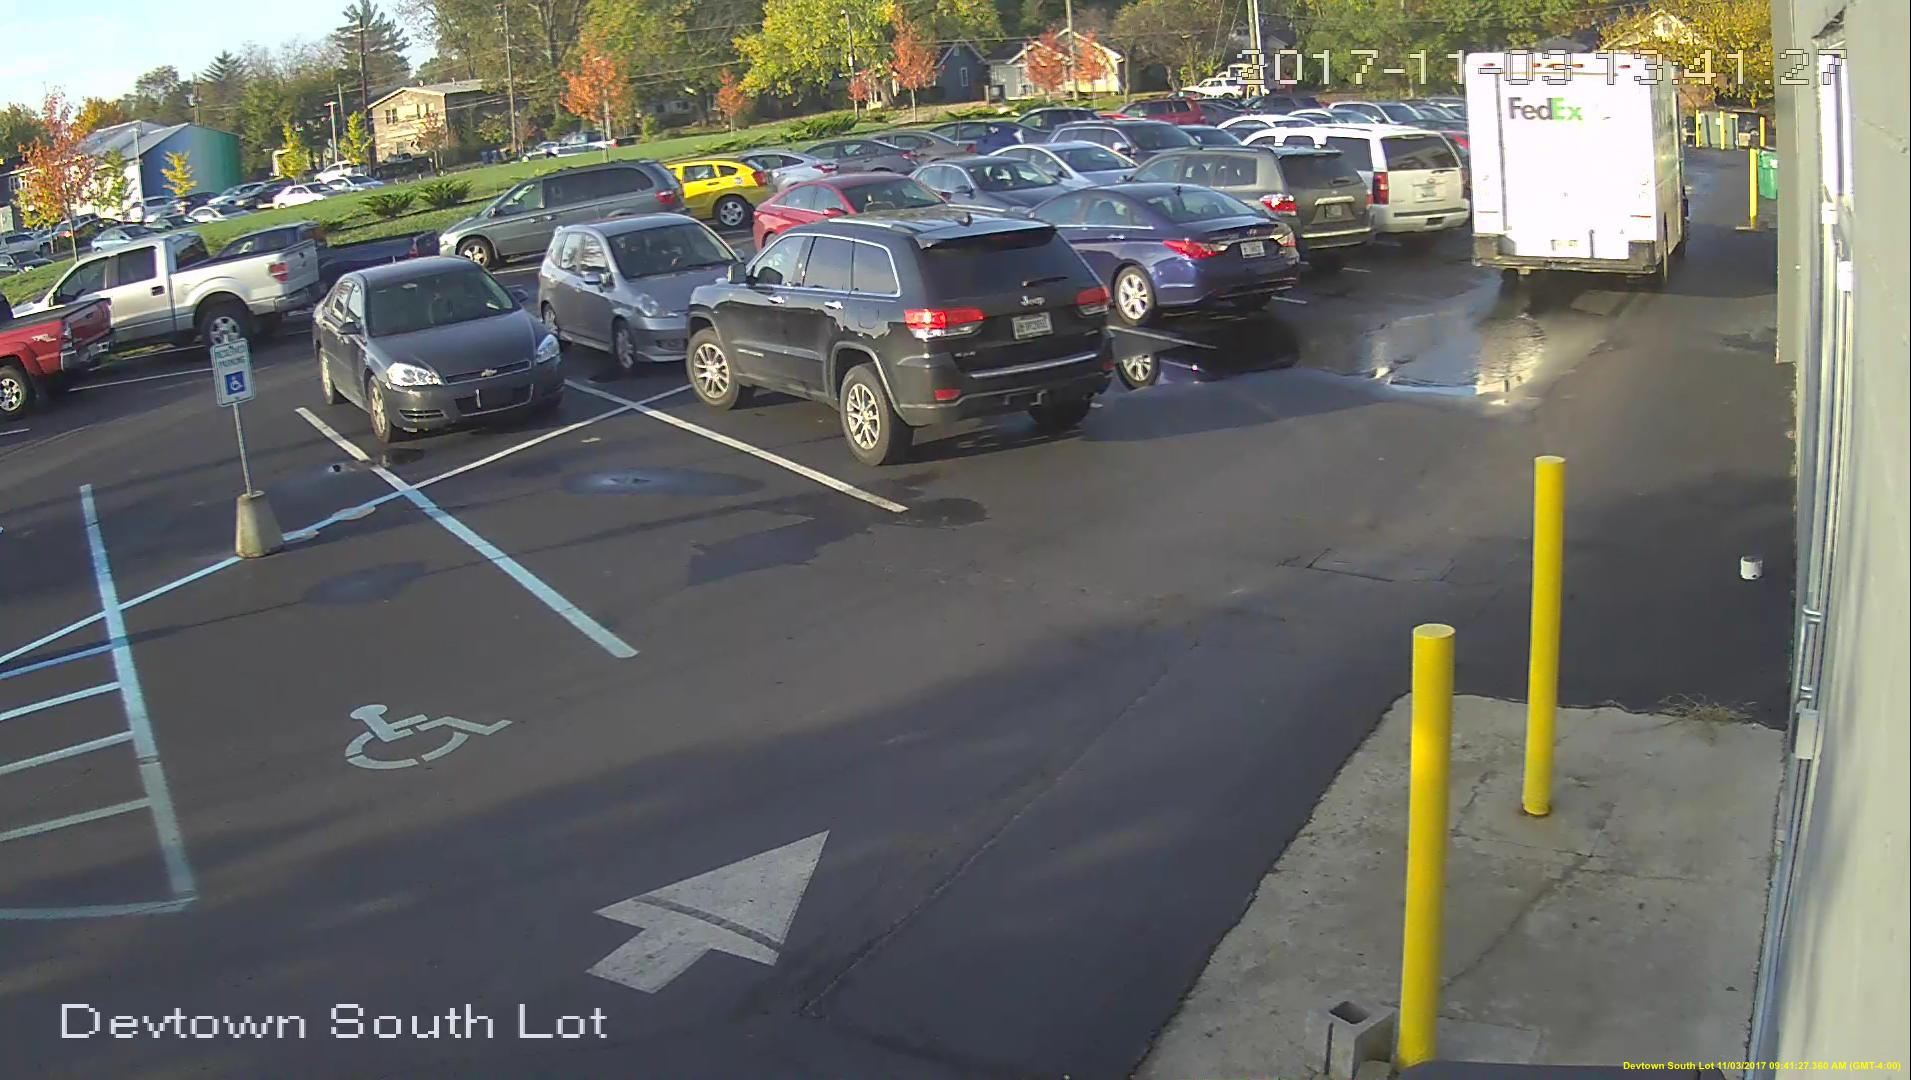fedex_truck: (1459, 47, 1692, 282)
